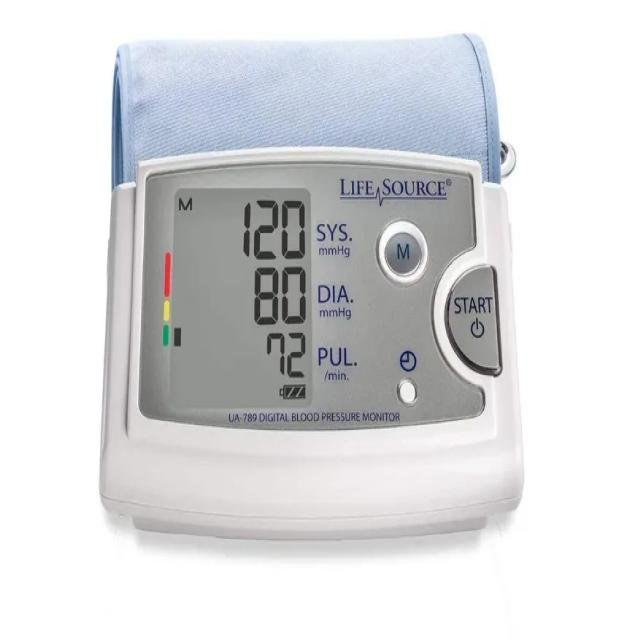dia: (248, 259, 309, 330)
pul: (259, 326, 312, 380)
ssd: (173, 187, 311, 405)
sys: (230, 187, 311, 259)
